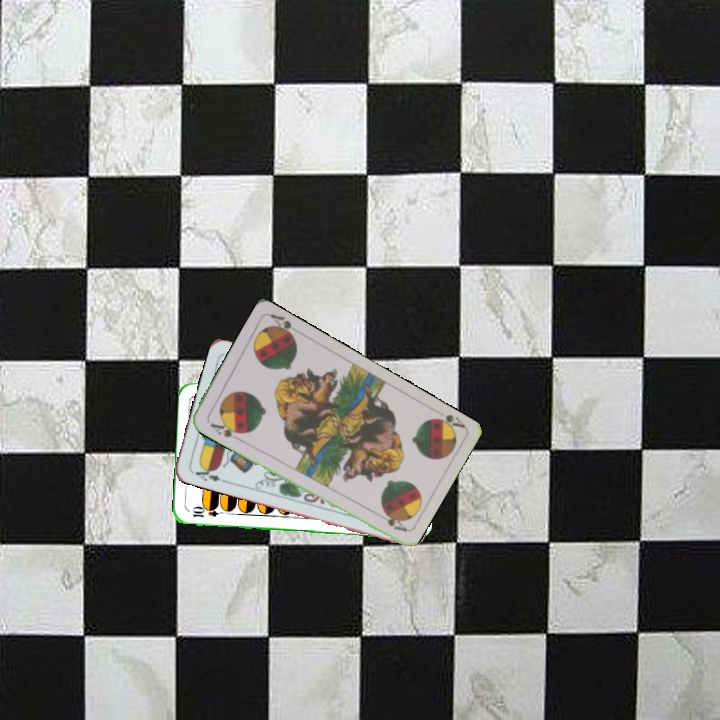E10: (188, 504, 228, 520)
EA: (188, 462, 223, 484)
SA: (426, 410, 467, 436), (206, 417, 245, 443)
